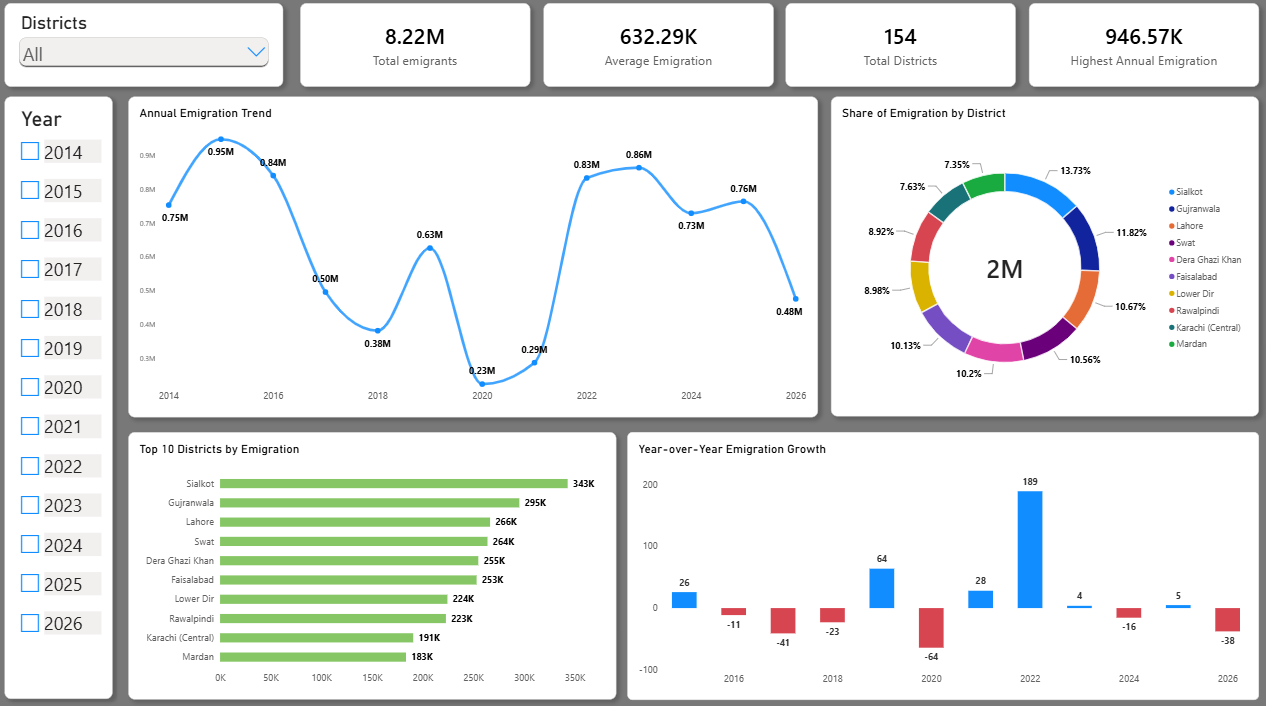

The page's visual inventory and layout, read from the dashboard file:
{"tool":"powerbi","page":{"name":"Page 1","canvas":[1920,1080],"ordinal":0},"visuals":[{"type":"lineChart","title":"Annual Emigration Trend","fields":{"Category":["Emigraion_Cleaned.Year"],"Y":["Emigraion_Cleaned.Total emigrants"]},"box":[210.3,157.1,1034.7,481.1],"z":0},{"type":"barChart","title":"Top 10 Districts by Emigration","fields":{"Category":["Emigraion_Cleaned.Districts"],"Y":["Emigraion_Cleaned.Total emigrants"]},"box":[210.3,660,732.5,401.3],"z":1000},{"type":"donutChart","title":"Share of Emigration by District","fields":{"Category":["Emigraion_Cleaned.Districts"],"Y":["Emigraion_Cleaned.Total emigrants"]},"box":[1265,157.5,642.5,480],"z":2000},{"type":"clusteredColumnChart","title":"Year-over-Year Emigration Growth","fields":{"Category":["Emigraion_Cleaned.Year"],"Y":["Emigraion_Cleaned.YoY Growth %"]},"box":[960,660,947.5,402.5],"z":3000},{"type":"card","fields":{"Values":["Emigraion_Cleaned.Total emigrants"]},"box":[469,16.9,345.7,125.7],"z":4000},{"type":"card","fields":{"Values":["Emigraion_Cleaned.Average Emigration"]},"box":[833,16.9,345.7,125.7],"z":5000},{"type":"card","fields":{"Values":["Emigraion_Cleaned.Total Districts"]},"box":[1197,16.9,345.7,125.7],"z":6000},{"type":"card","fields":{"Values":["Emigraion_Cleaned.Highest Annual Emigration"]},"box":[1561.1,16.9,345.7,125.7],"z":7000},{"type":"slicer","fields":{"Values":["Emigraion_Cleaned.Districts"]},"box":[24.2,16.9,418.2,125.7],"z":8000},{"type":"slicer","fields":{"Values":["Emigraion_Cleaned.Year"]},"box":[24.2,157.1,162,904.2],"z":9000}]}

Visuals, with their boxes in screenshot pixels (x1, y1, x2, y2), scaled from the page's 1920x1080 canvas onto the 1266x706 screenshot:
"Annual Emigration Trend" lineChart: [left=139, top=103, right=821, bottom=417]
"Top 10 Districts by Emigration" barChart: [left=139, top=431, right=622, bottom=694]
"Share of Emigration by District" donutChart: [left=834, top=103, right=1258, bottom=417]
"Year-over-Year Emigration Growth" clusteredColumnChart: [left=633, top=431, right=1258, bottom=695]
card - Emigraion_Cleaned.Total emigrants: [left=309, top=11, right=537, bottom=93]
card - Emigraion_Cleaned.Average Emigration: [left=549, top=11, right=777, bottom=93]
card - Emigraion_Cleaned.Total Districts: [left=789, top=11, right=1017, bottom=93]
card - Emigraion_Cleaned.Highest Annual Emigration: [left=1029, top=11, right=1257, bottom=93]
slicer - Emigraion_Cleaned.Districts: [left=16, top=11, right=292, bottom=93]
slicer - Emigraion_Cleaned.Year: [left=16, top=103, right=123, bottom=694]
